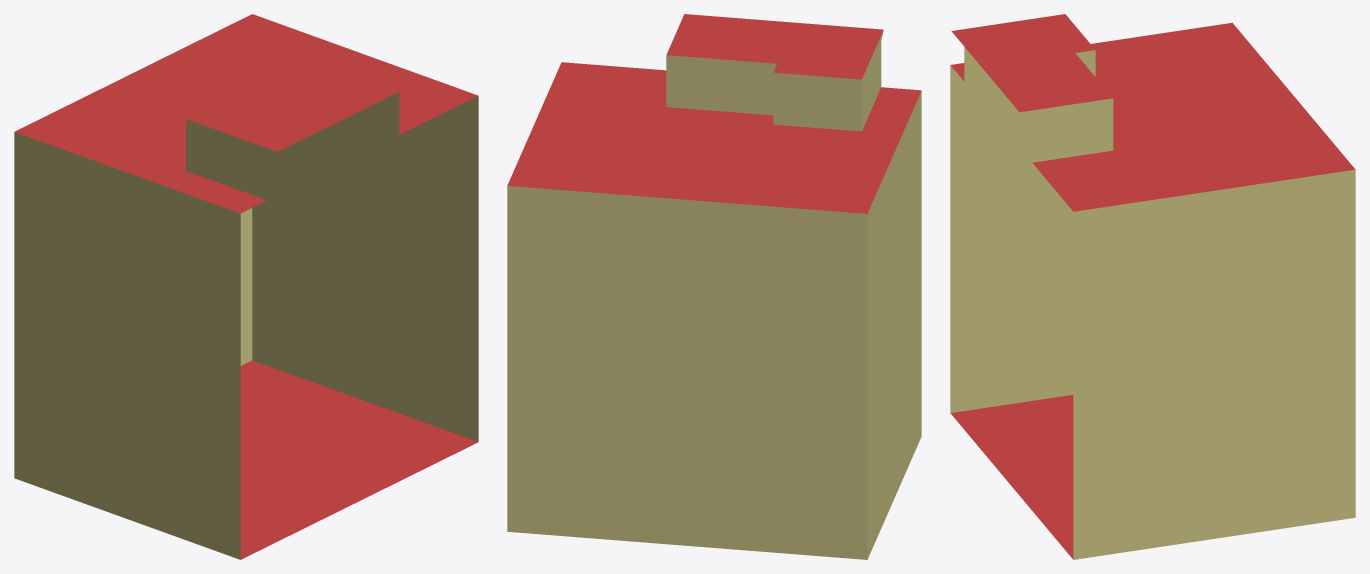
The picture shows the model from 3 angles, left to right: view 1: azimuth 30°, elevation 25°; view 2: azimuth 150°, elevation 25°; view 3: azimuth 270°, elevation 25°; orthographic projection.
Visible parts, largest first — view 1: group_4, group_3, group_5, group_6, group_7; view 2: group_4, group_3, group_7, group_6; view 3: group_4, group_3, group_5, group_6, group_7.
Part boxes in pixels (x1,y1,x2,y2): group_4: [14, 96, 478, 559]; group_3: [14, 14, 478, 213]; group_5: [240, 360, 478, 559]; group_6: [186, 59, 408, 151]; group_7: [186, 92, 399, 199]; group_4: [507, 91, 921, 559]; group_3: [507, 62, 921, 213]; group_7: [666, 30, 883, 131]; group_6: [666, 14, 883, 79]; group_4: [950, 65, 1355, 559]; group_3: [950, 22, 1355, 211]; group_5: [950, 395, 1073, 559]; group_6: [951, 14, 1112, 112]; group_7: [964, 47, 1113, 162].
Size of the model in its own units: 16.2 by 14.67 by 16.
